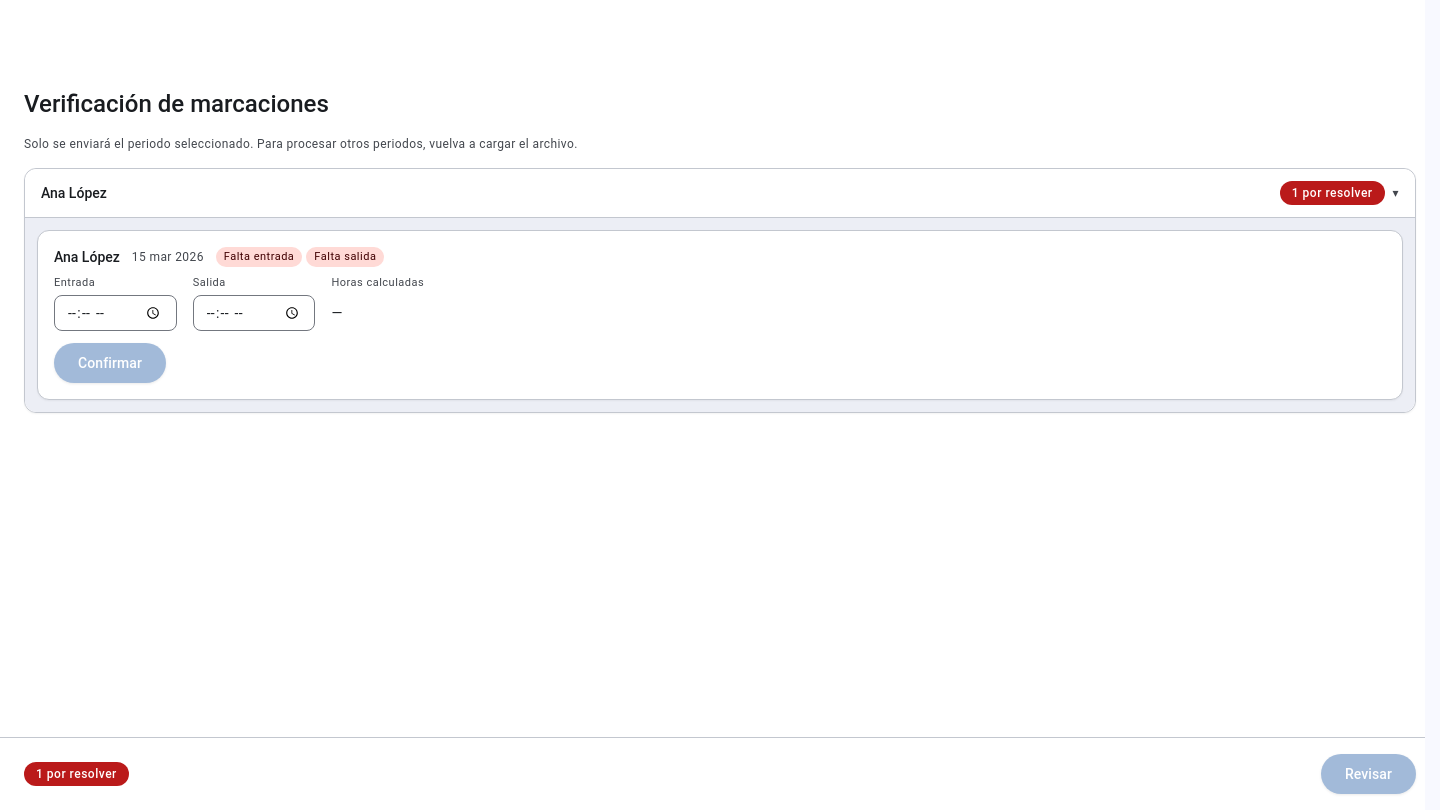
VerificationScreen time inputs › shows hours preview when both fields are filled
This screenshot has width=1440, height=810.
In the time field named "Entrada": (115, 313) [54,295,177,331], type "08:00"
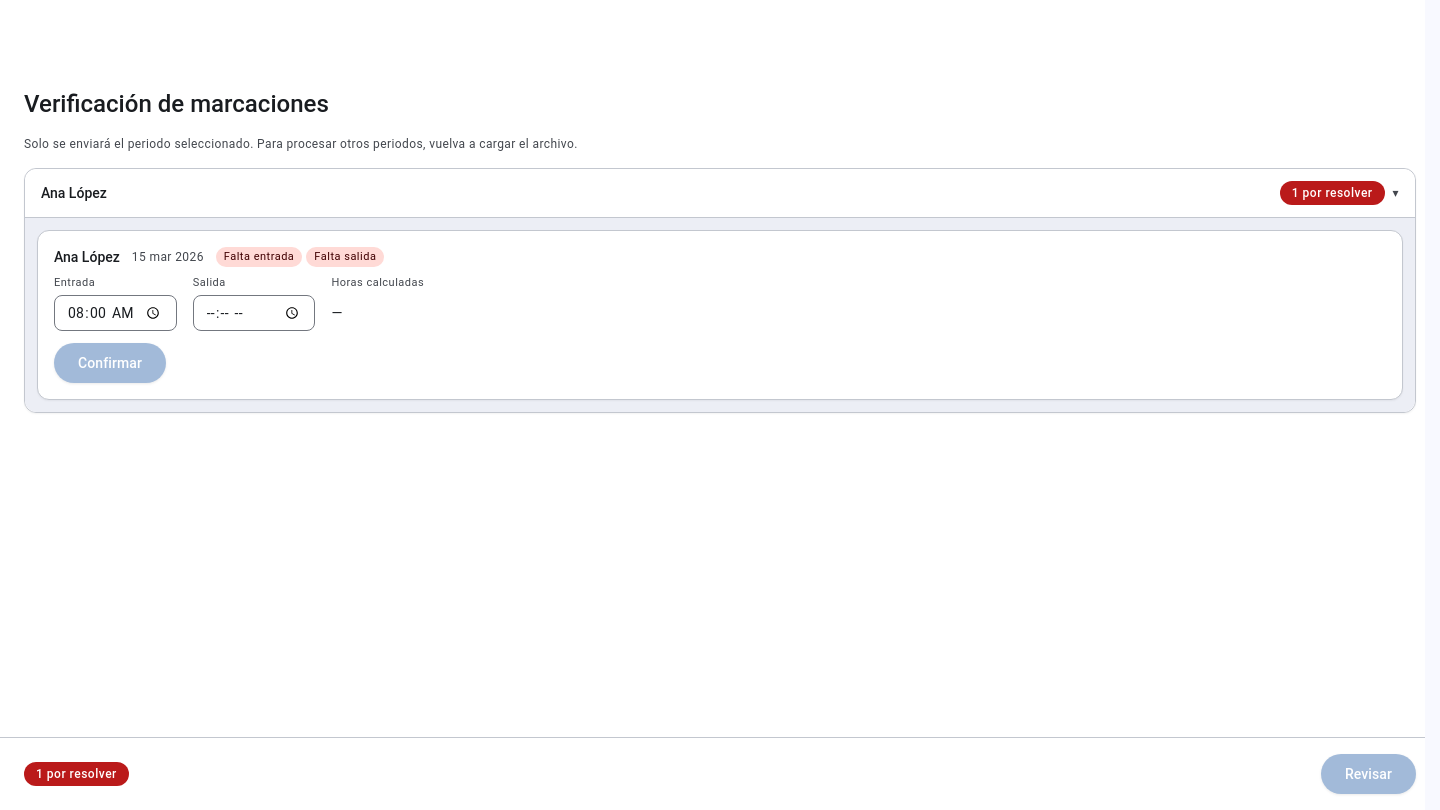
In the time field named "Salida": (254, 313) [193,295,315,331], type "17:00"
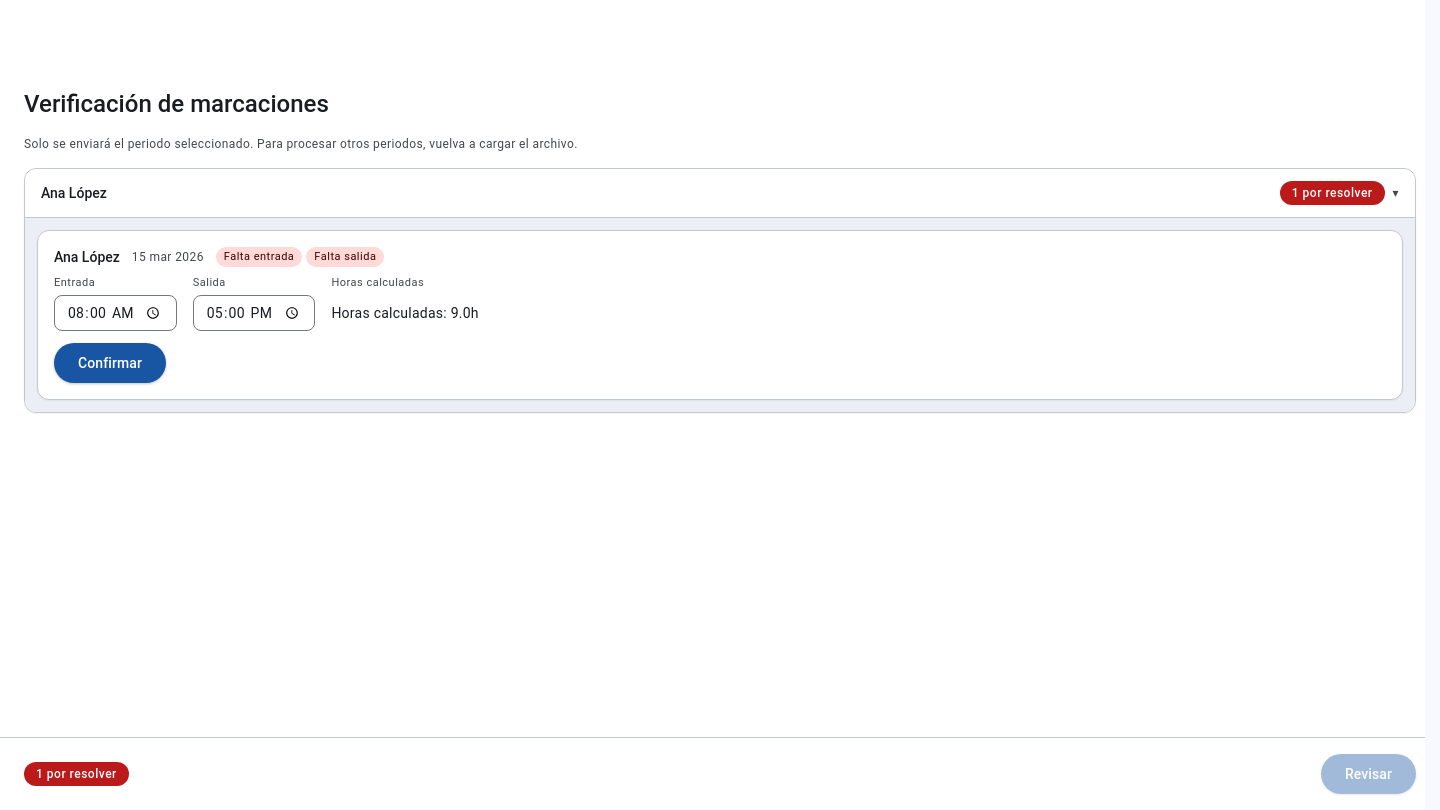
Check: the text "Horas calculadas: 9.0h" is shown, box [331,305,479,321]
